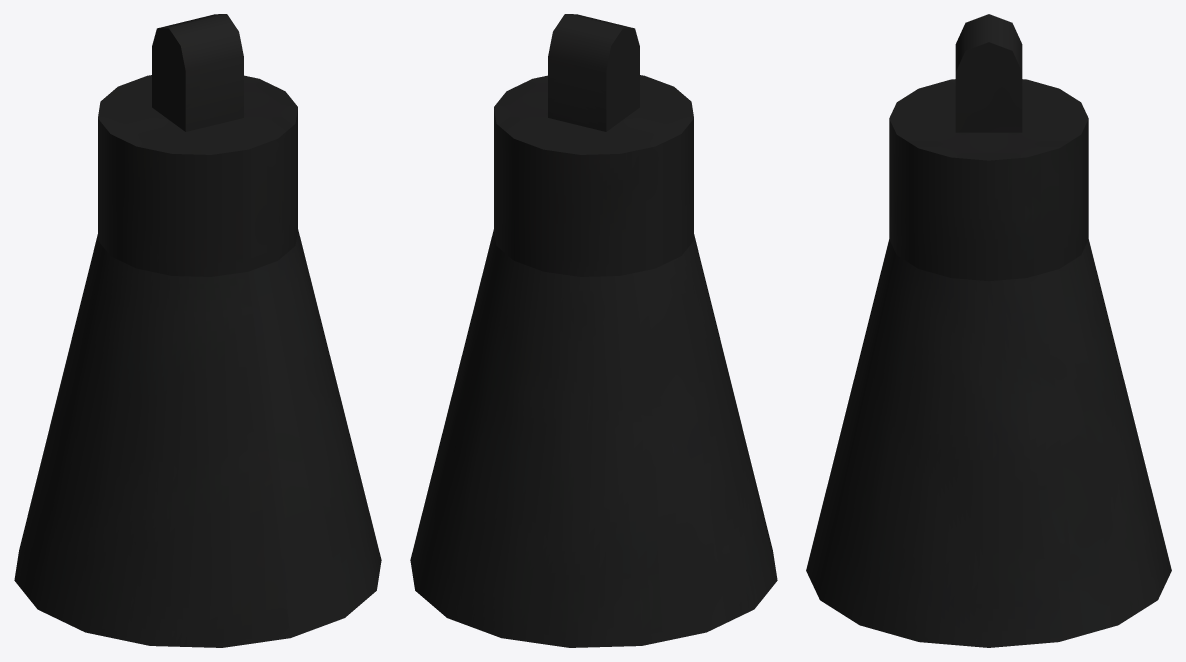
The model's file is 1f_antenna_s0_1_base.obj.
3 views of the same model, side by side, from view 1: azimuth 30°, elevation 25°; view 2: azimuth 150°, elevation 25°; view 3: azimuth 270°, elevation 25° (orthographic).
Visible parts, largest first — view 1: mesh1; view 2: mesh1; view 3: mesh1.
Part boxes in pixels (<box>): mesh1: <box>14,14,381,647</box>; mesh1: <box>410,14,777,647</box>; mesh1: <box>806,14,1171,647</box>.
Size of the model in its own units: 0.275 by 0.4625 by 0.275.
